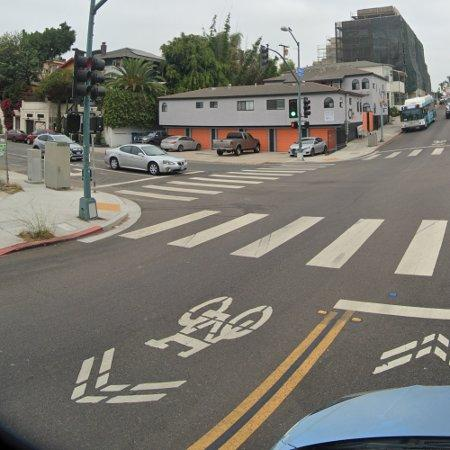traffic lights: (72, 48, 90, 99), (90, 55, 105, 102)
